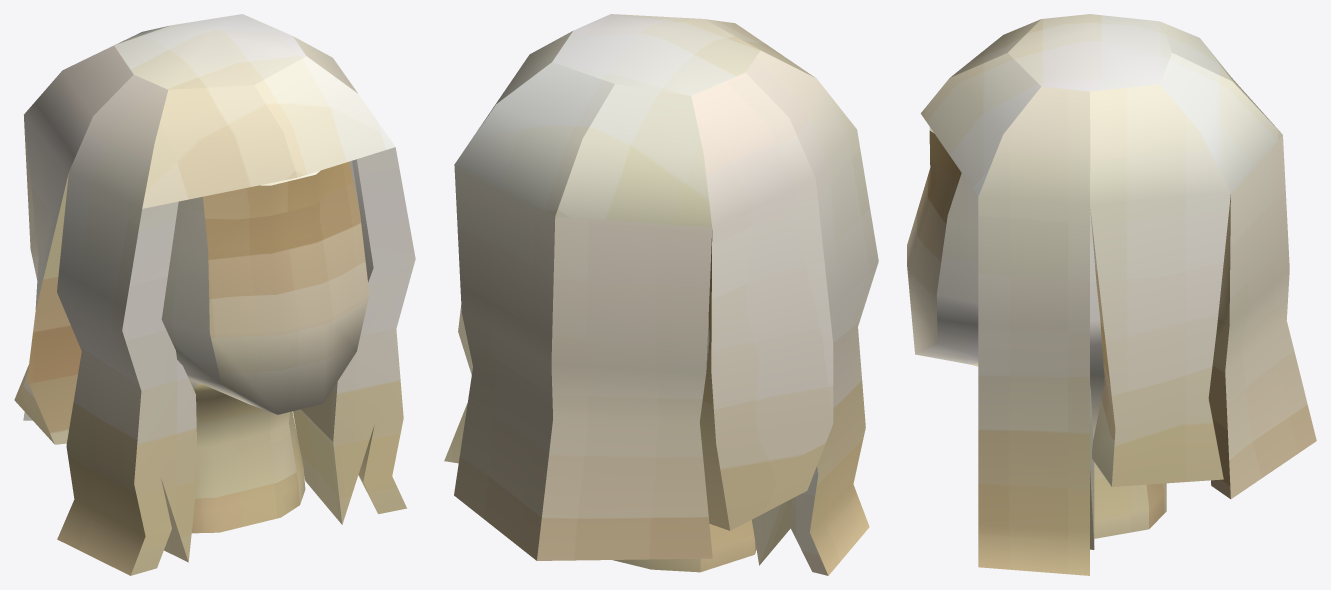
File: sculpture2.glb
3 renders of one model, left to right at view 1: azimuth 30°, elevation 25°; view 2: azimuth 150°, elevation 25°; view 3: azimuth 270°, elevation 25°, orthographic. The views are drawn at different scales.
Parts seen in each view (by area): view 1: polySurface1, pCylinder1; view 2: polySurface1, pCylinder1; view 3: polySurface1, pCylinder1.
Boxes of the visible parts, box(x1,y1,x2,y2) form: polySurface1: box(14, 14, 415, 575); pCylinder1: box(161, 161, 369, 533); polySurface1: box(444, 14, 878, 575); pCylinder1: box(613, 520, 756, 572); polySurface1: box(921, 14, 1316, 575); pCylinder1: box(907, 127, 1166, 538).
Bounding box in the file's own units: 0.4099 × 0.5334 × 0.4189.
1 material, 1 textured.
